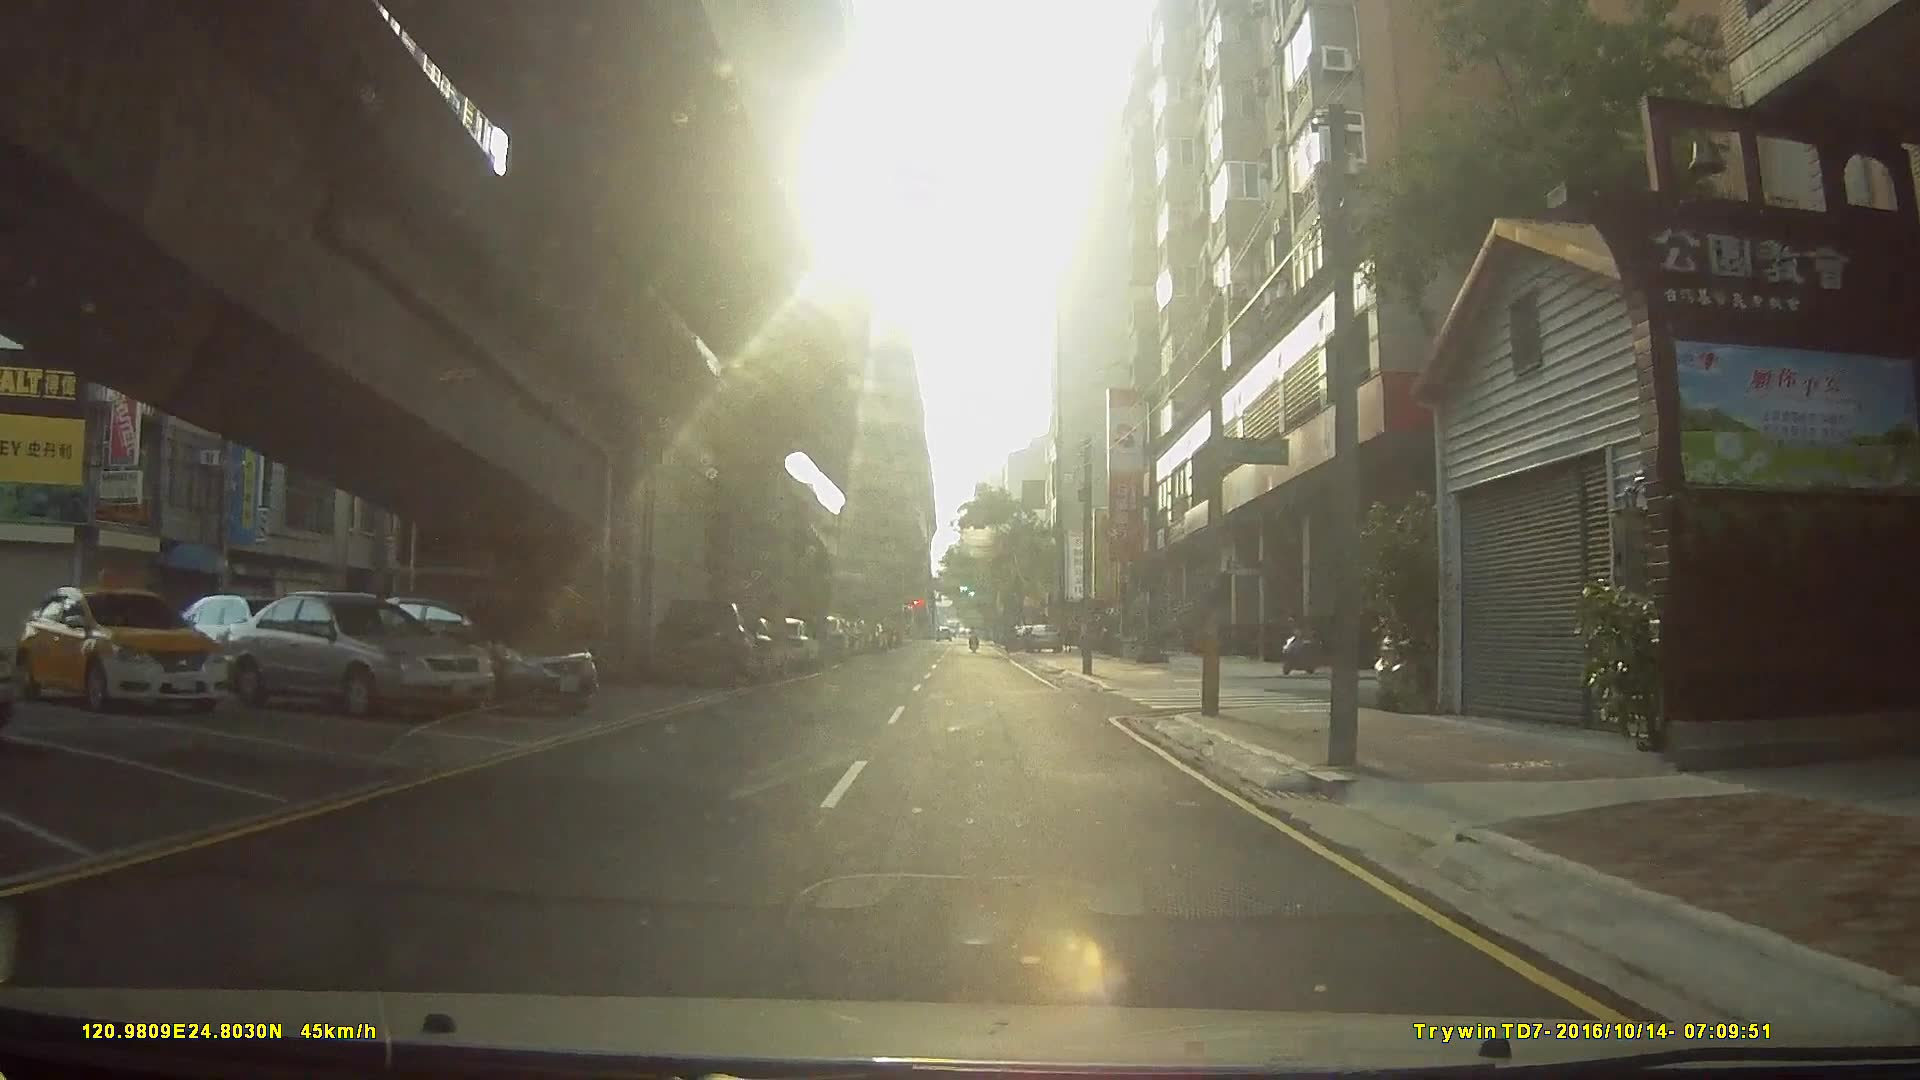vehicle: (218, 589, 495, 717), (352, 589, 603, 712), (15, 583, 224, 715), (649, 593, 758, 684)
